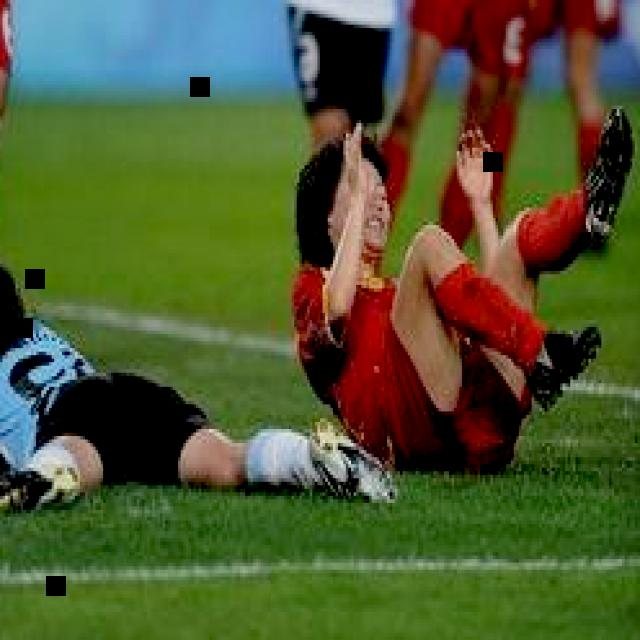Fall-Detected: (1, 242, 384, 520)
